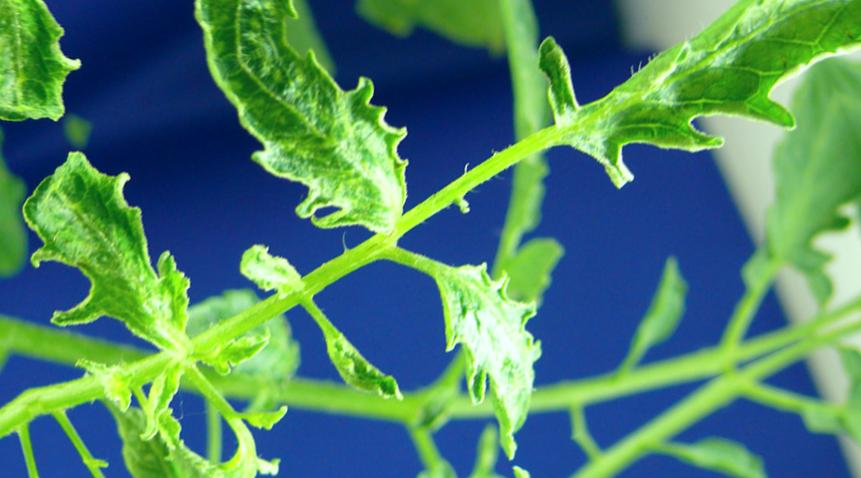Tomato leaf mosaic virus: (179, 5, 455, 286), (0, 100, 243, 394), (498, 0, 836, 211), (400, 229, 597, 475)
